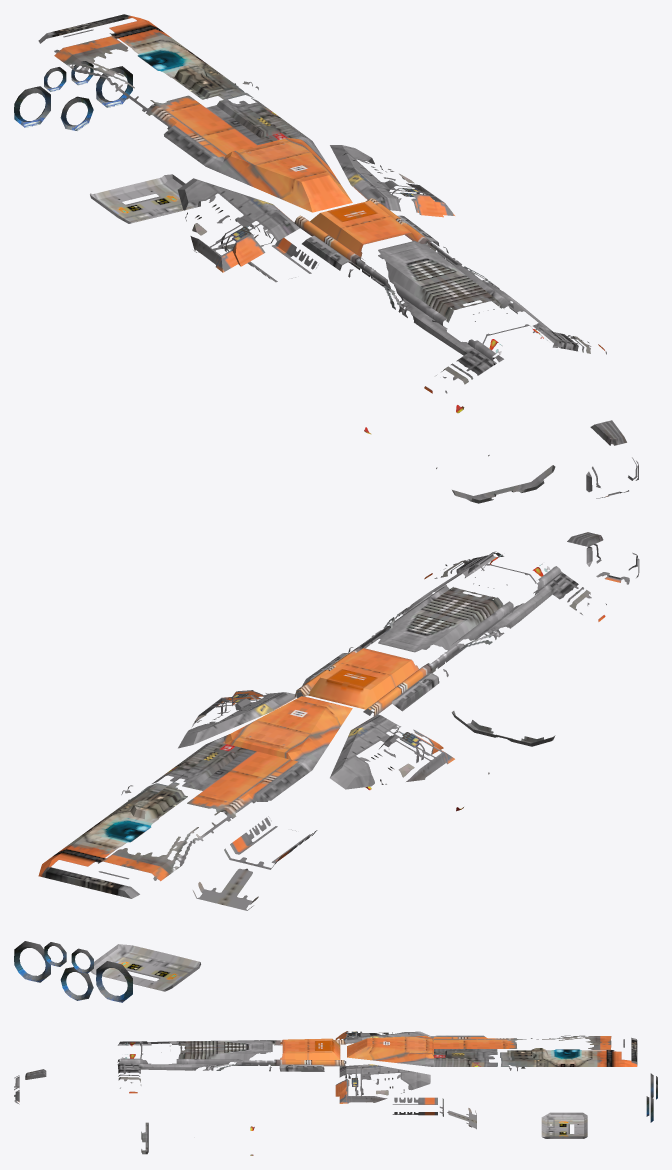
Rendered from Goblins-UVFlip.obj.
The picture shows the model from 3 angles, top to bottom: view 1: azimuth 30°, elevation 25°; view 2: azimuth 150°, elevation 25°; view 3: azimuth 270°, elevation 25°; orthographic projection. The views are drawn at different scales.
Visible parts, largest first — view 1: FrontUV, Engine; view 2: FrontUV, Engine; view 3: FrontUV, Engine.
Boxes of the visible parts, bbox=[...] form: FrontUV: bbox=[38, 14, 638, 503]; Engine: bbox=[14, 61, 132, 130]; FrontUV: bbox=[38, 532, 639, 991]; Engine: bbox=[14, 941, 132, 1002]; FrontUV: bbox=[14, 1031, 637, 1155]; Engine: bbox=[646, 1073, 657, 1122].
Size of the model in its own units: 35.45 by 26.2 by 145.
